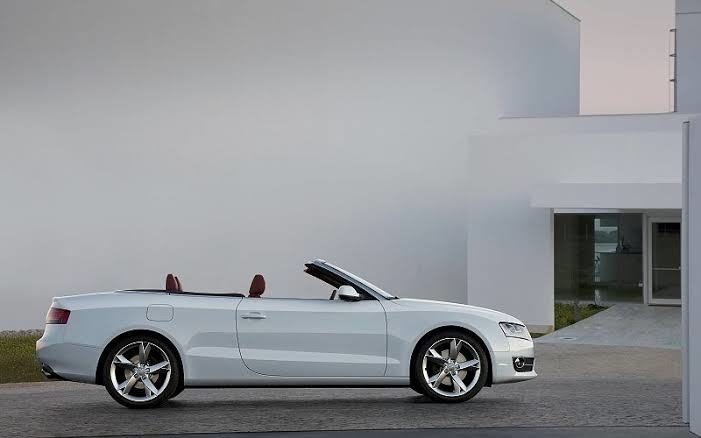audi: (29, 255, 539, 409)
